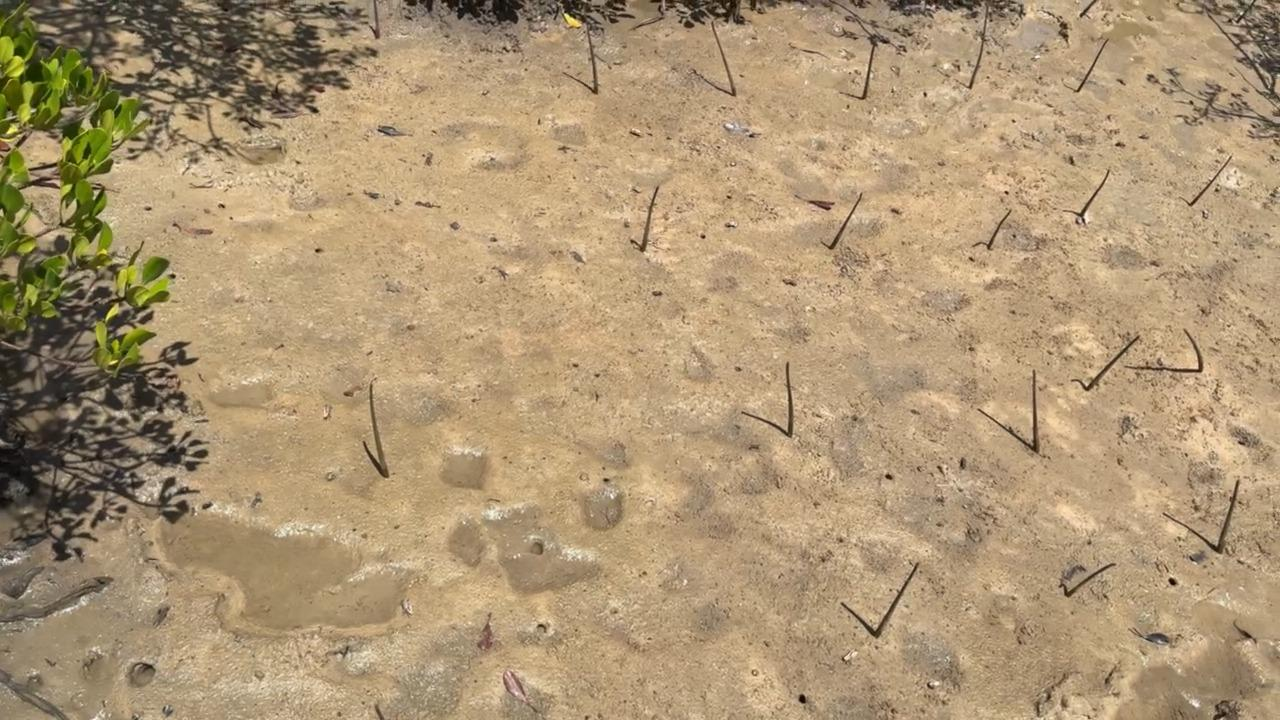Tree: (872, 562, 919, 638), (1085, 334, 1141, 391), (1189, 156, 1232, 206), (828, 192, 862, 248), (711, 20, 736, 95), (968, 2, 989, 90), (370, 383, 389, 477), (1076, 38, 1109, 92), (1065, 563, 1117, 597), (1217, 480, 1240, 554), (1079, 169, 1110, 218), (582, 5, 598, 93), (640, 185, 660, 253), (987, 209, 1013, 250), (1183, 327, 1204, 371), (861, 40, 876, 99), (784, 360, 794, 437), (1031, 369, 1040, 453), (1236, 0, 1256, 22), (1079, 0, 1096, 19), (373, 0, 380, 39)
